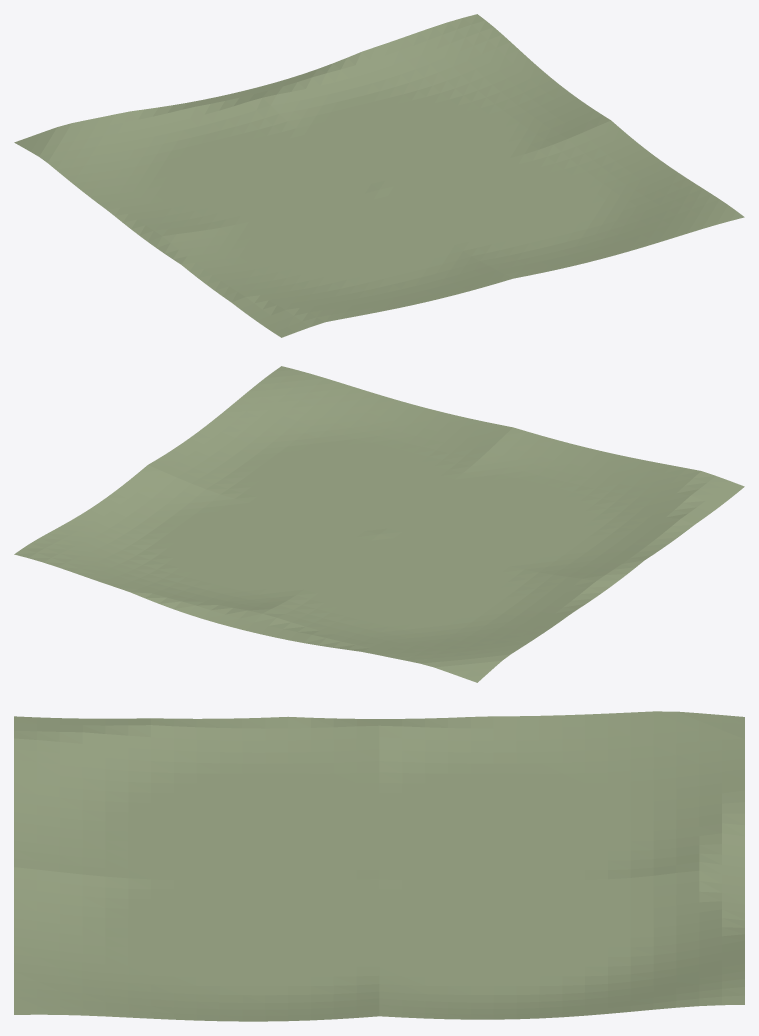
Rendered from gardens-3-7.glb.
3 views of the same model, one above another, from view 1: azimuth 30°, elevation 25°; view 2: azimuth 150°, elevation 25°; view 3: azimuth 270°, elevation 25° (orthographic). The views are drawn at different scales.
Parts seen in each view (by area): view 1: gardens-3-7; view 2: gardens-3-7; view 3: gardens-3-7.
Boxes of the visible parts, bbox=[...] form: gardens-3-7: bbox=[14, 14, 744, 337]; gardens-3-7: bbox=[14, 366, 744, 682]; gardens-3-7: bbox=[14, 711, 744, 1021].
Size of the model in its own units: 256 by 11.36 by 256.
